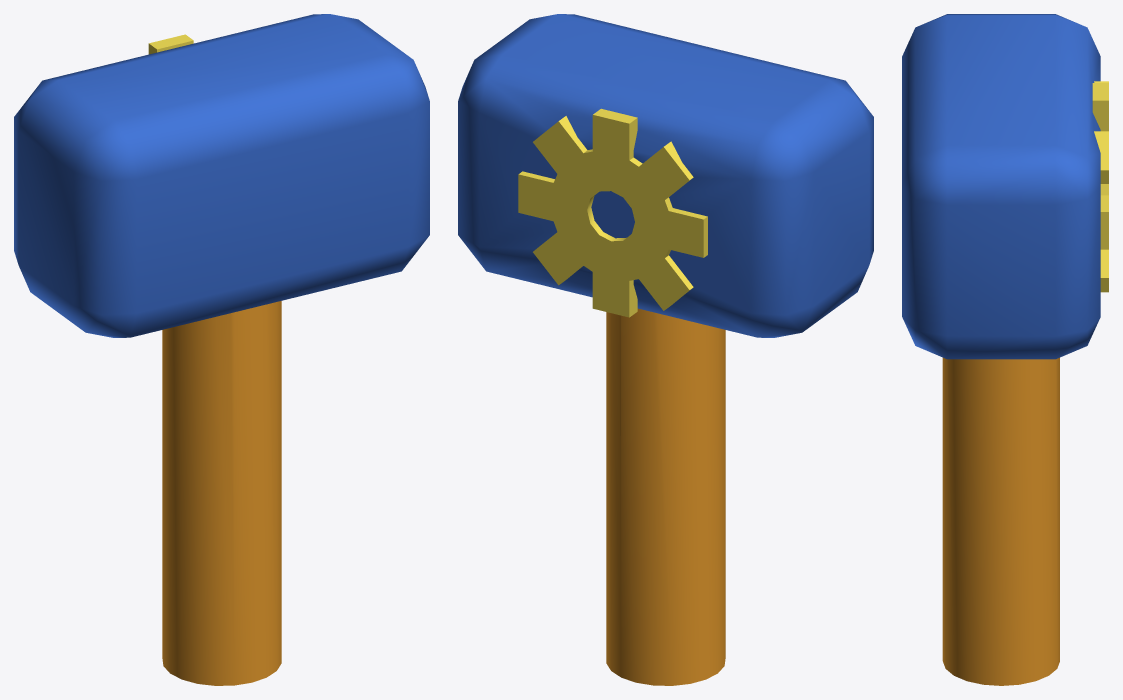
The model's file is support_tool.glb.
3 renders of one model, left to right at view 1: azimuth 30°, elevation 25°; view 2: azimuth 150°, elevation 25°; view 3: azimuth 270°, elevation 25°, orthographic. The views are drawn at different scales.
Parts seen in each view (by area): view 1: support_tool; view 2: support_tool; view 3: support_tool.
Part boxes in pixels (x1=…): support_tool: x1=14, y1=14, x2=429, y2=685; support_tool: x1=458, y1=14, x2=873, y2=685; support_tool: x1=902, y1=14, x2=1108, y2=685.
Bounding box in the file's own units: 0.0558 × 0.09 × 0.029.
